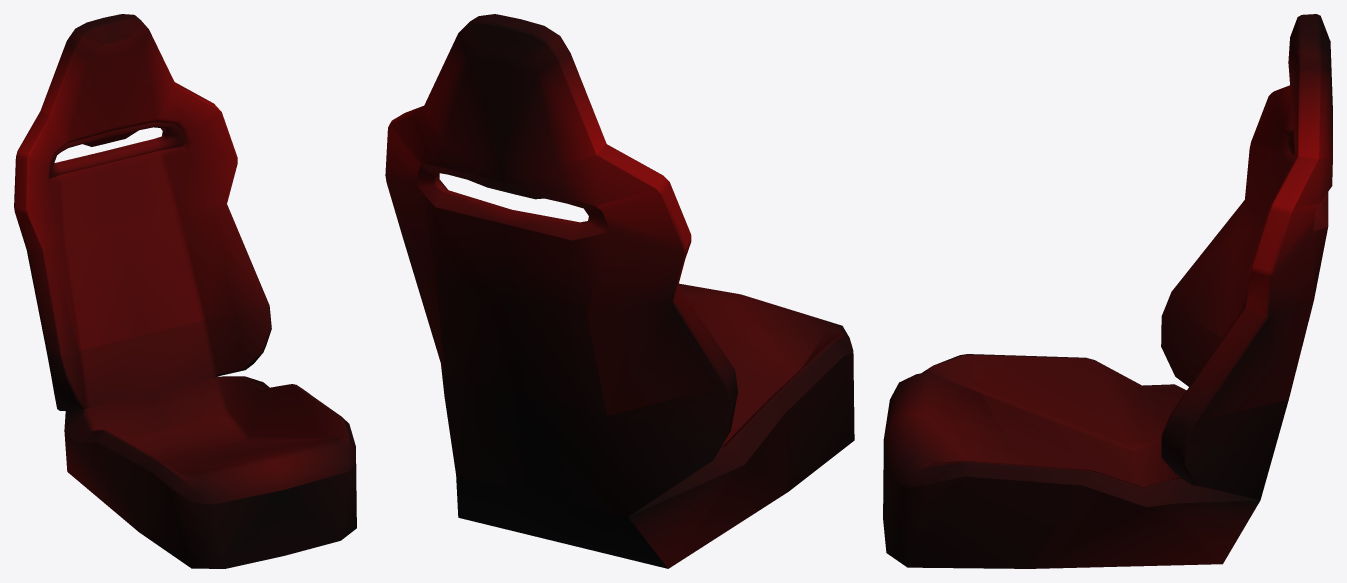
File: AudiR8_Seat.fbx
3 renders of one model, left to right at view 1: azimuth 30°, elevation 25°; view 2: azimuth 150°, elevation 25°; view 3: azimuth 270°, elevation 25°, orthographic. The views are drawn at different scales.
Parts seen in each view (by area): view 1: AudiR8_Seat; view 2: AudiR8_Seat; view 3: AudiR8_Seat.
Part boxes in pixels (left/top/right/bottom): AudiR8_Seat: left=14, top=14, right=356, bottom=568; AudiR8_Seat: left=385, top=14, right=854, bottom=568; AudiR8_Seat: left=883, top=14, right=1332, bottom=568.
Bounding box in the file's own units: 51.11 × 90.77 × 75.1.
